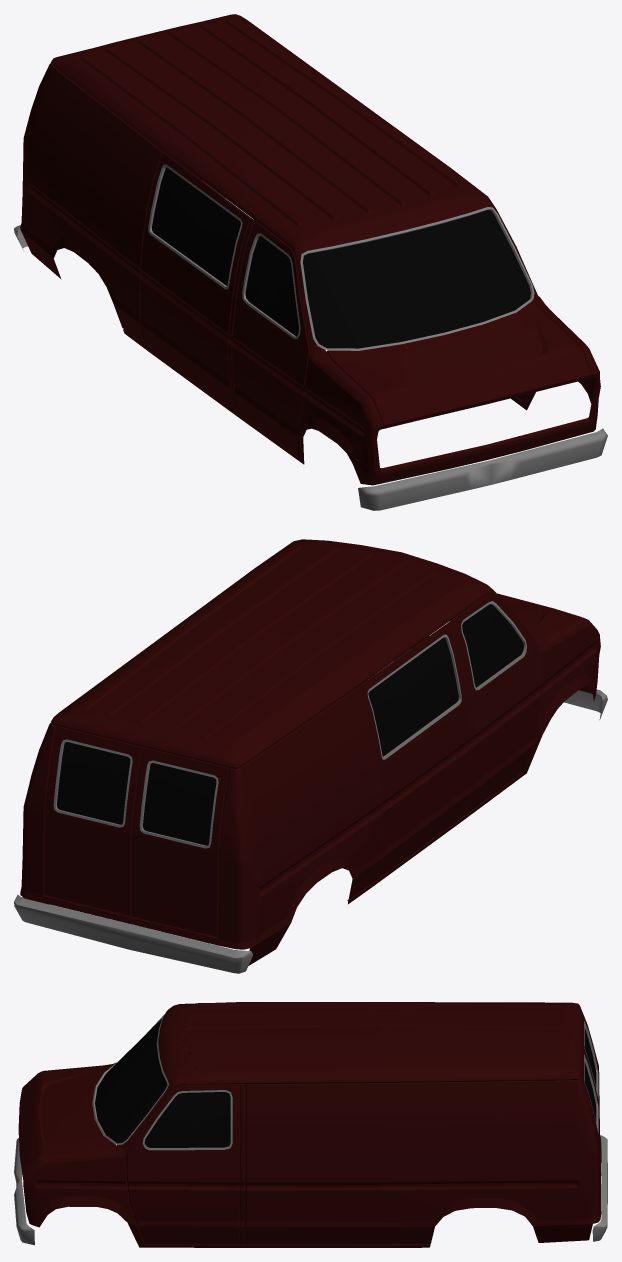
File: bourbon_mover.fbx
3 renders of one model, top to bottom at view 1: azimuth 30°, elevation 25°; view 2: azimuth 150°, elevation 25°; view 3: azimuth 270°, elevation 25°, orthographic. The views are drawn at different scales.
Parts seen in each view (by area): view 1: FrontFender_paintable, Windows, RearFender_paintable, Hood_paintable, RightRearDoor_paintable, Chrome, RightFrontDoor_paintable, Body_paintable; view 2: FrontFender_paintable, RearFender_paintable, Trunk_paintable, Windows, RightRearDoor_paintable, Chrome, RightFrontDoor_paintable, Hood_paintable, Body_paintable; view 3: RearFender_paintable, FrontFender_paintable, LeftFrontDoor_paintable, Windows, Hood_paintable, Chrome, Body_paintable, Trunk_paintable.
Part boxes in pixels (left/top/right/bottom): FrontFender_paintable: left=51, top=14, right=600, bottom=485; Windows: left=152, top=167, right=530, bottom=348; RearFender_paintable: left=20, top=63, right=200, bottom=346; Hood_paintable: left=326, top=300, right=591, bottom=428; RightRearDoor_paintable: left=140, top=152, right=251, bottom=411; Chrome: left=14, top=164, right=607, bottom=510; RightFrontDoor_paintable: left=232, top=220, right=309, bottom=457; Body_paintable: left=228, top=218, right=254, bottom=414; FrontFender_paintable: left=51, top=539, right=600, bottom=904; RearFender_paintable: left=20, top=686, right=381, bottom=965; Trunk_paintable: left=44, top=725, right=229, bottom=937; Windows: left=57, top=604, right=523, bottom=845; RightRearDoor_paintable: left=359, top=623, right=471, bottom=880; Chrome: left=14, top=601, right=607, bottom=973; RightFrontDoor_paintable: left=451, top=594, right=541, bottom=814; Hood_paintable: left=497, top=593, right=581, bottom=638; Body_paintable: left=448, top=620, right=474, bottom=816; RearFender_paintable: left=245, top=1008, right=601, bottom=1244; FrontFender_paintable: left=22, top=1002, right=580, bottom=1247; LeftFrontDoor_paintable: left=126, top=1084, right=240, bottom=1244; Windows: left=95, top=1019, right=596, bottom=1147; Hood_paintable: left=18, top=1064, right=115, bottom=1171; Chrome: left=14, top=1010, right=607, bottom=1245; Body_paintable: left=239, top=1084, right=245, bottom=1244; Trunk_paintable: left=580, top=1009, right=599, bottom=1188.
Size of the model in its own units: 20.22 by 16.89 by 52.12.
